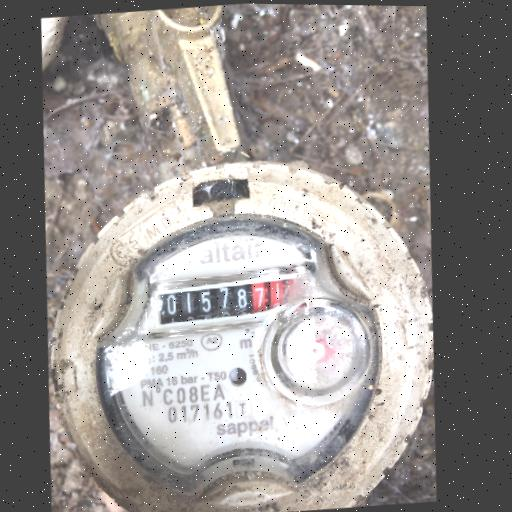0: (159, 292, 184, 324)
1: (265, 279, 289, 311), (178, 291, 200, 322)
5: (194, 288, 218, 321)
7: (212, 284, 236, 319), (249, 282, 271, 314)
8: (230, 284, 252, 316)
border_water_meter_number: (144, 261, 318, 337)
